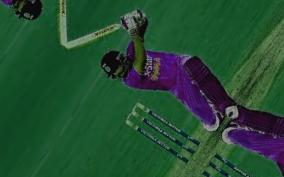batsman: (59, 35, 253, 129)
